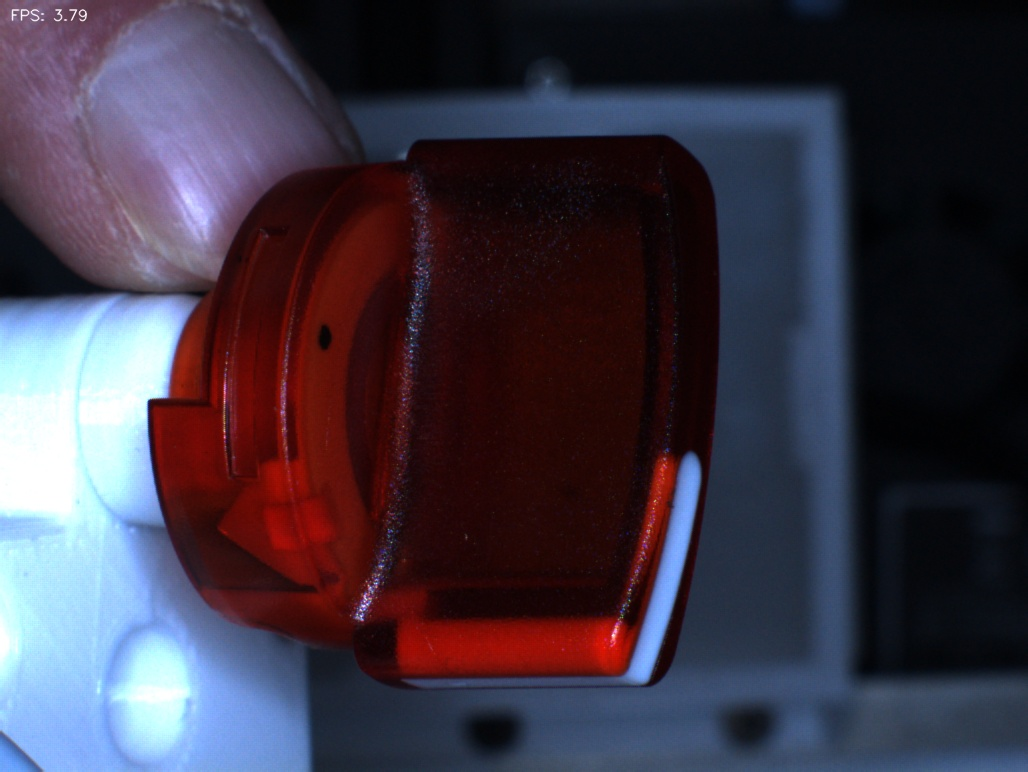PointNoir: (288, 283, 362, 386)
